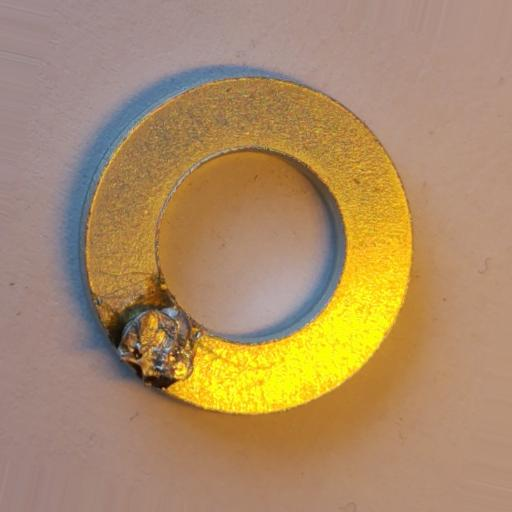excess_material: (116, 306, 202, 390)
